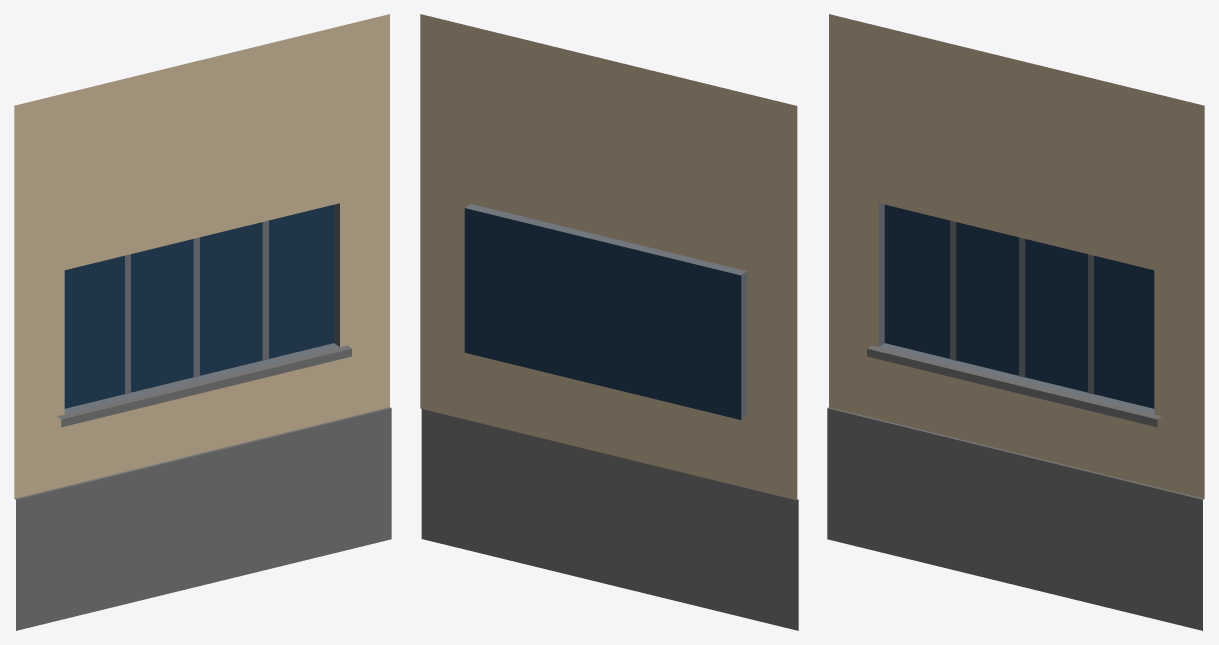
The picture shows the model from 3 angles, left to right: view 1: azimuth 30°, elevation 25°; view 2: azimuth 150°, elevation 25°; view 3: azimuth 330°, elevation 25°; orthographic projection.
Parts seen in each view (by area): view 1: a2004/500/base-w1; view 2: a2004/500/base-w1; view 3: a2004/500/base-w1.
Boxes of the visible parts, box(x1,y1,x2,y2) form: a2004/500/base-w1: box(14, 14, 391, 630); a2004/500/base-w1: box(420, 14, 798, 630); a2004/500/base-w1: box(827, 14, 1204, 630).
Bounding box in the file's own units: 3 × 4 × 0.14.
